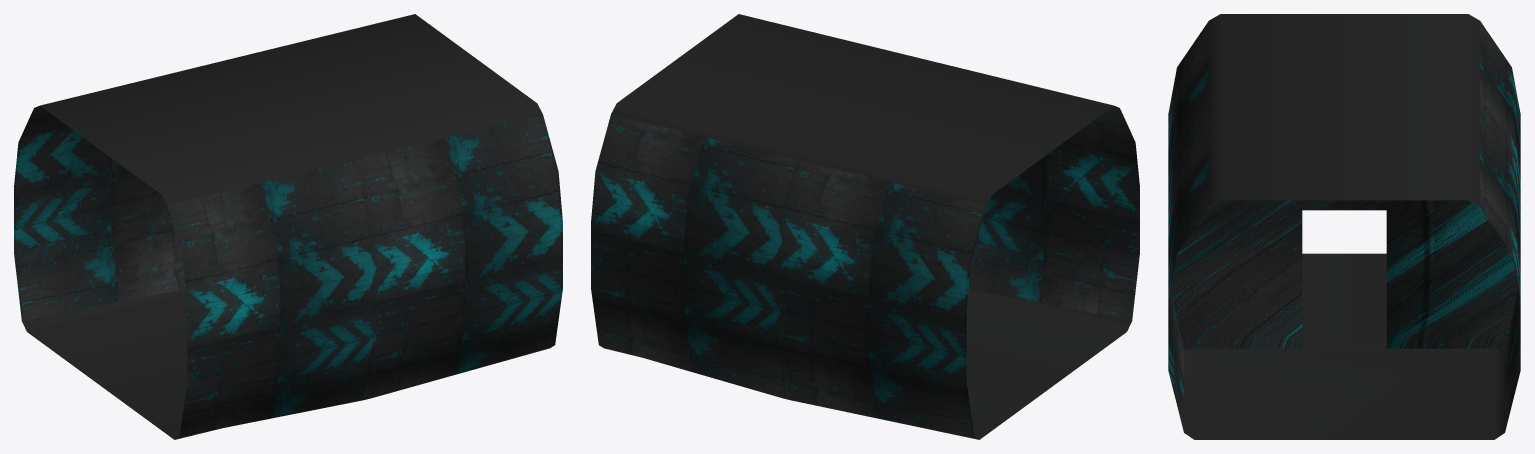
The model's file is corridoor.fbx.
3 renders of one model, left to right at view 1: azimuth 30°, elevation 25°; view 2: azimuth 150°, elevation 25°; view 3: azimuth 270°, elevation 25°, orthographic.
Parts seen in each view (by area): view 1: corridoor; view 2: corridoor; view 3: corridoor.
Boxes of the visible parts, left/top/right/bottom form: corridoor: left=14, top=14, right=562, bottom=439; corridoor: left=591, top=14, right=1139, bottom=439; corridoor: left=1168, top=14, right=1520, bottom=439.
Size of the model in its own units: 500 by 302 by 400.
